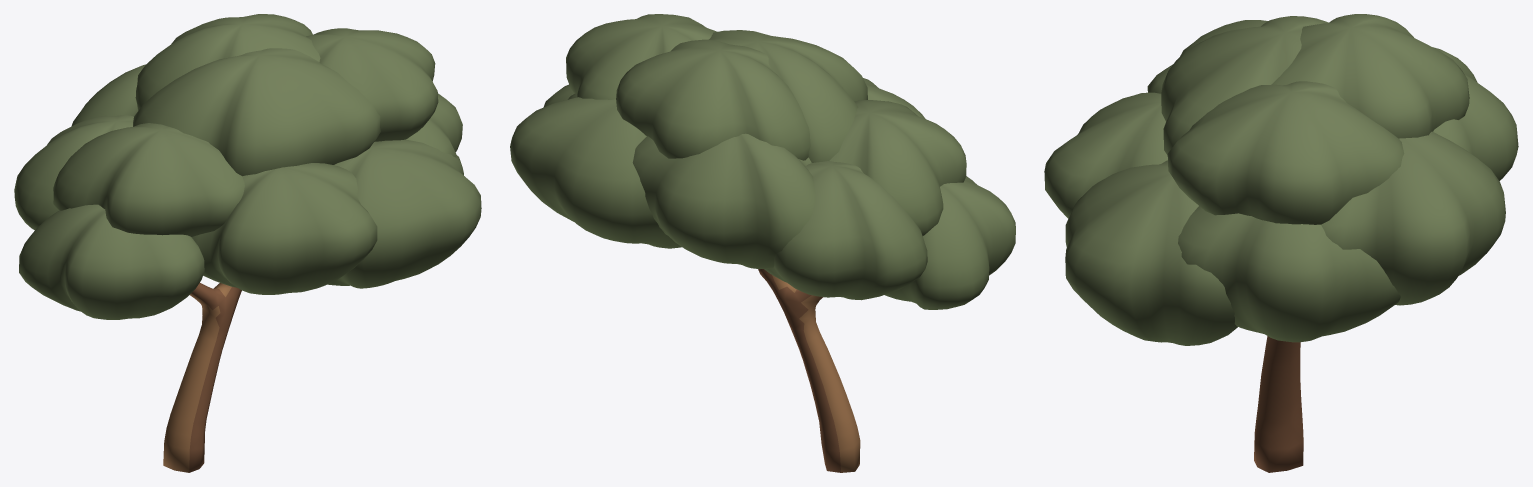
File: tree-c.glb
3 views of the same model, side by side, from view 1: azimuth 30°, elevation 25°; view 2: azimuth 150°, elevation 25°; view 3: azimuth 270°, elevation 25° (orthographic). The views are drawn at different scales.
Parts seen in each view (by area): view 1: tree-c-canopy, tree-c-trunk; view 2: tree-c-canopy, tree-c-trunk; view 3: tree-c-canopy, tree-c-trunk.
Boxes of the visible parts, box(x1,y1,x2,y2) form: tree-c-canopy: box(14, 14, 481, 319); tree-c-trunk: box(163, 283, 241, 472); tree-c-canopy: box(510, 14, 1015, 309); tree-c-trunk: box(758, 269, 860, 472); tree-c-canopy: box(1044, 14, 1518, 345); tree-c-trunk: box(1254, 336, 1303, 472).
Size of the model in its own units: 4.8 by 4.3 by 3.78.
